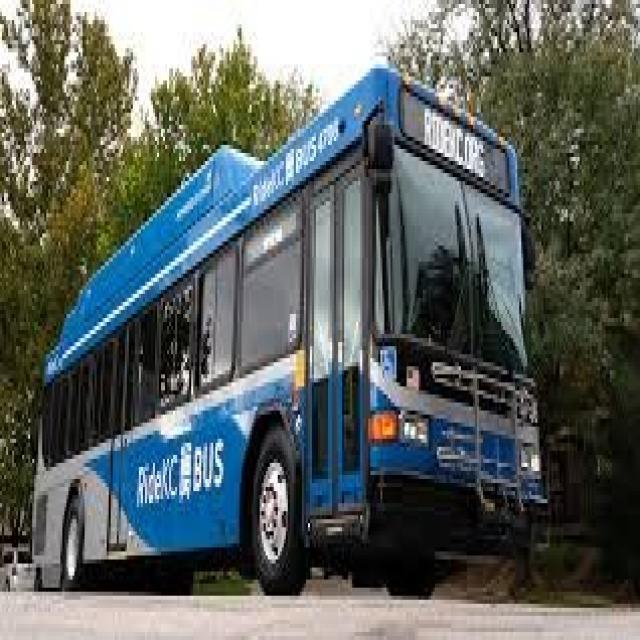bus: (17, 62, 546, 599)
